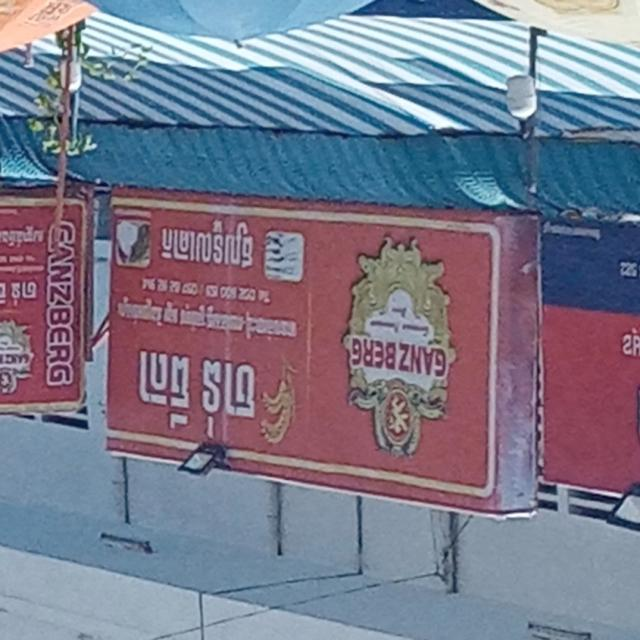1: (120, 327, 272, 445)
Yolov11kh: (154, 215, 269, 280)
